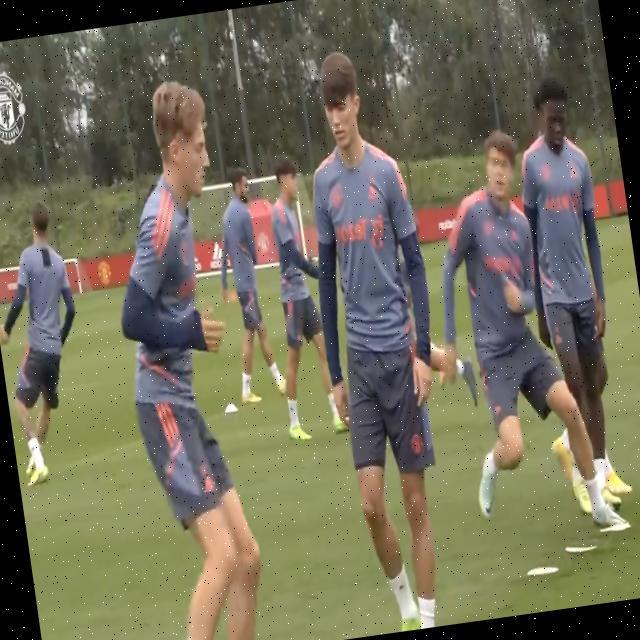Adidas: (207, 239, 231, 271), (201, 474, 218, 500)
